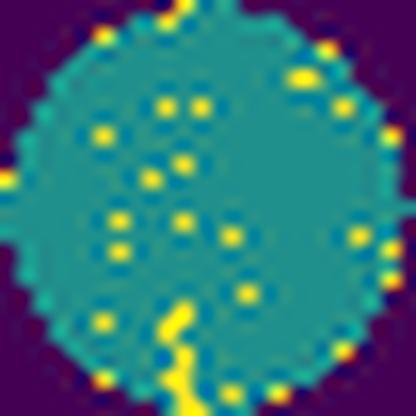Scratch: (148, 296, 218, 416)
